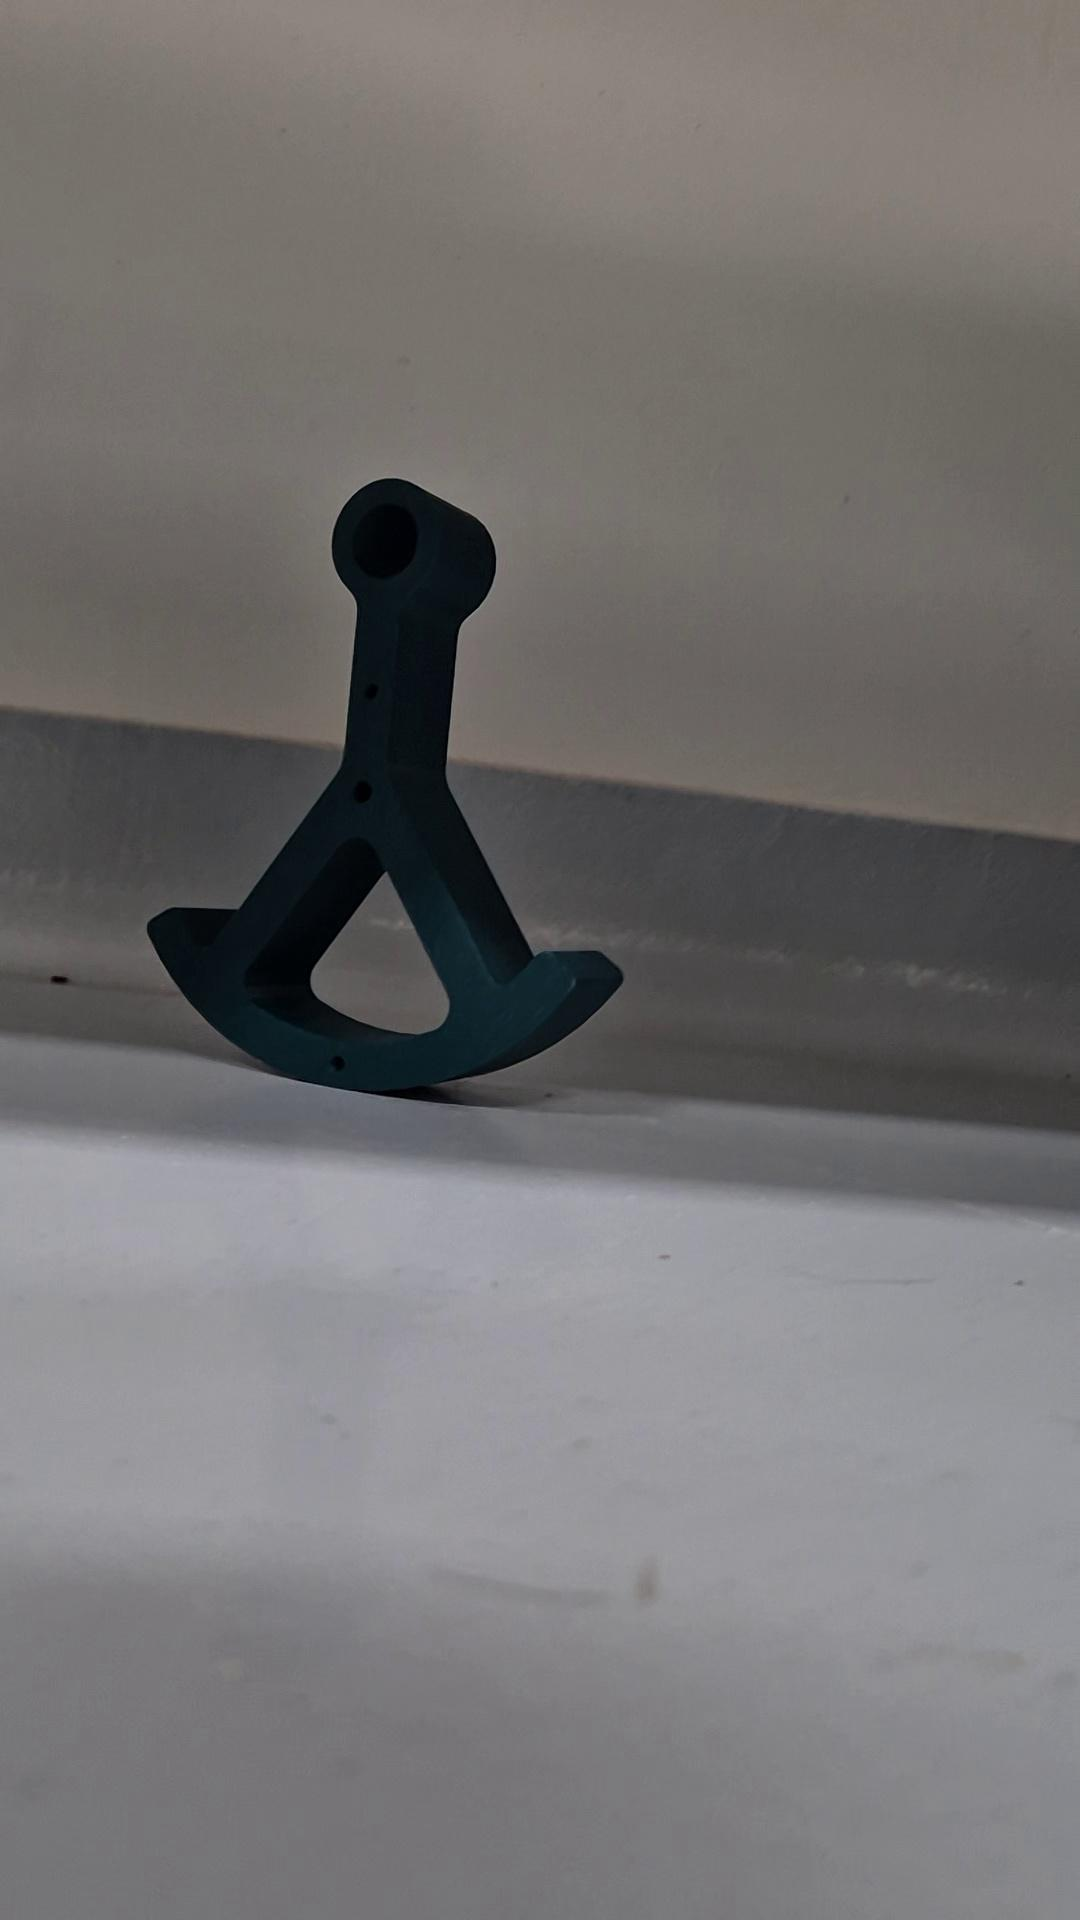Paddles: (142, 475, 628, 1100)
